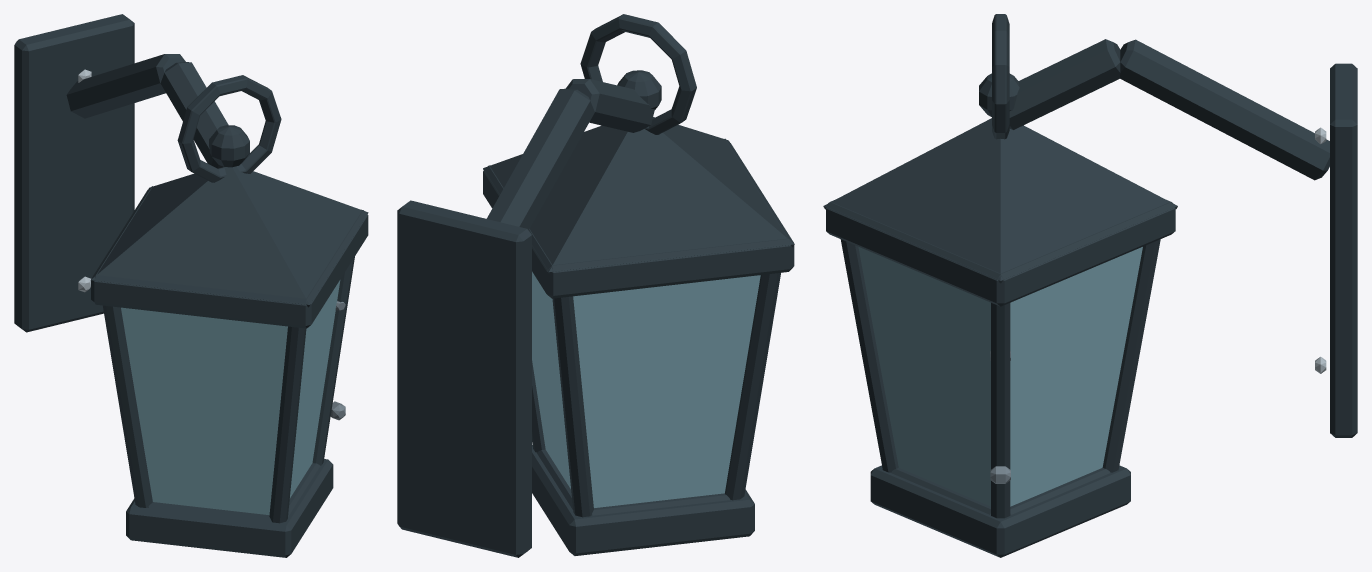
File: b18_coach_house_wall_lantern.glb
3 views of the same model, side by side, from view 1: azimuth 30°, elevation 25°; view 2: azimuth 150°, elevation 25°; view 3: azimuth 270°, elevation 25° (orthographic). The views are drawn at different scales.
Parts seen in each view (by area): view 1: b18_coach_house_wall_lantern; view 2: b18_coach_house_wall_lantern; view 3: b18_coach_house_wall_lantern.
Boxes of the visible parts, x1,y1,x2,y2 form: b18_coach_house_wall_lantern: [14, 14, 368, 557]; b18_coach_house_wall_lantern: [397, 14, 794, 557]; b18_coach_house_wall_lantern: [823, 14, 1357, 557].
Size of the model in its own units: 0.4449 by 0.667 by 0.6699.
